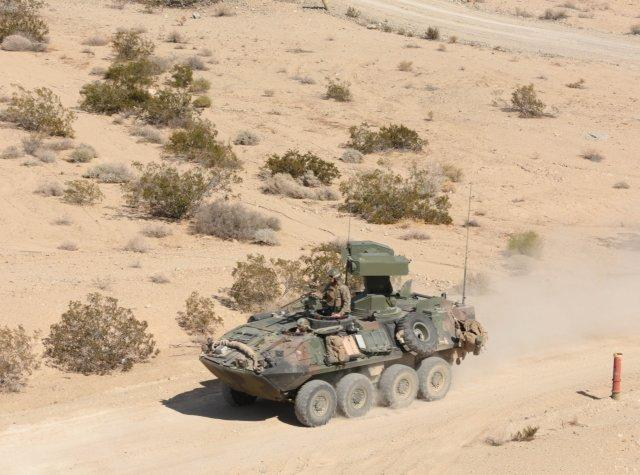armored_car: (198, 243, 488, 427)
